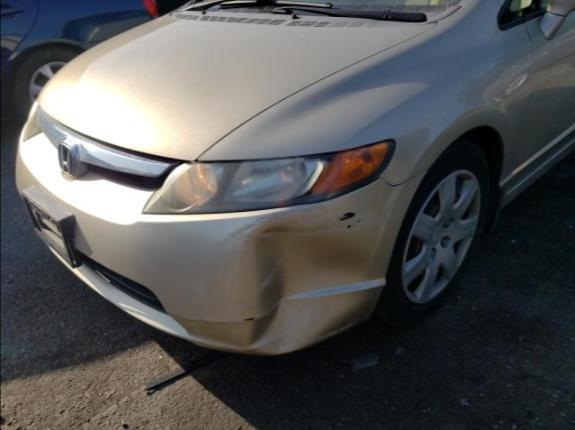Broken part: (379, 170, 427, 188)
Dent: (236, 203, 352, 356), (359, 184, 395, 248), (256, 260, 278, 295), (220, 223, 253, 244), (260, 226, 289, 235)
Missing part: (24, 198, 69, 263)
Paint chip: (337, 212, 356, 221), (344, 219, 361, 229)
Scratch: (191, 283, 207, 301), (188, 321, 203, 337), (240, 316, 254, 322)
